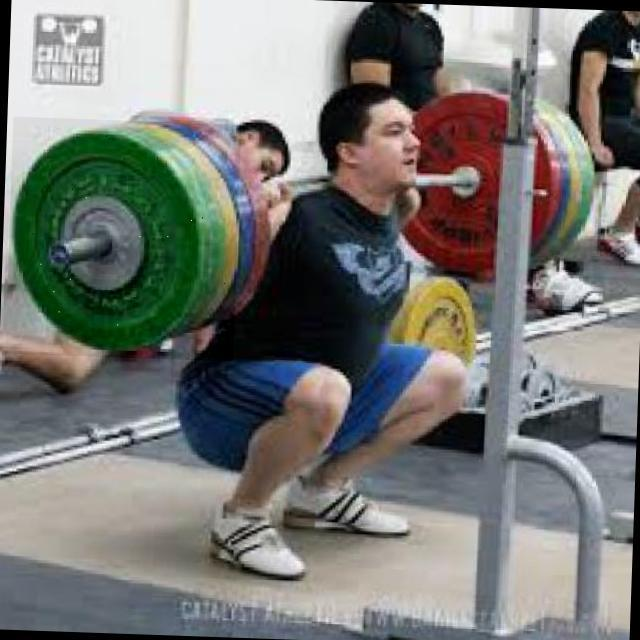barbell: (6, 117, 242, 362)
